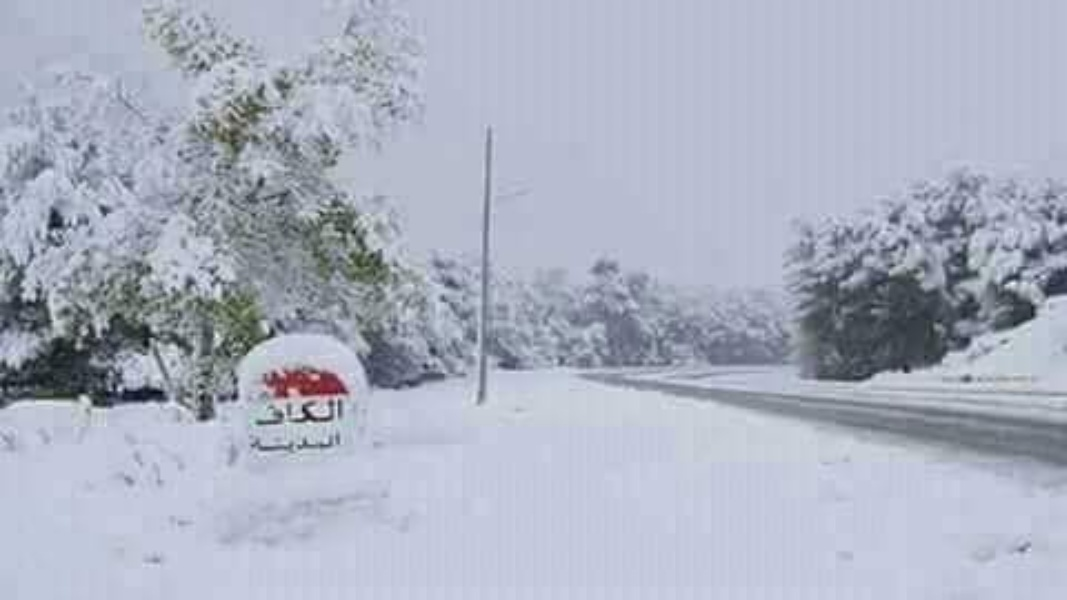text: (257, 396, 272, 425), (273, 396, 288, 425), (289, 396, 304, 425), (305, 396, 320, 425), (321, 396, 336, 425), (257, 432, 272, 454), (273, 432, 288, 454), (289, 432, 304, 454), (305, 432, 320, 454), (321, 432, 336, 454), (247, 432, 256, 454), (337, 396, 343, 425), (337, 432, 341, 454)
